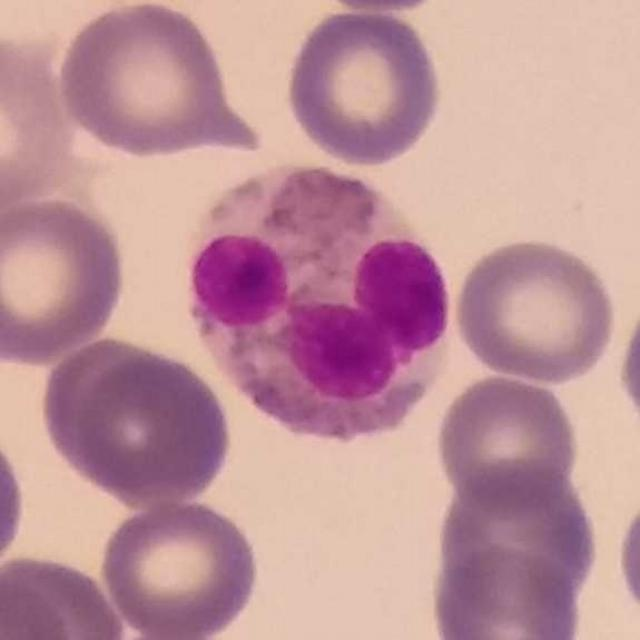eosino: (188, 161, 453, 443)
